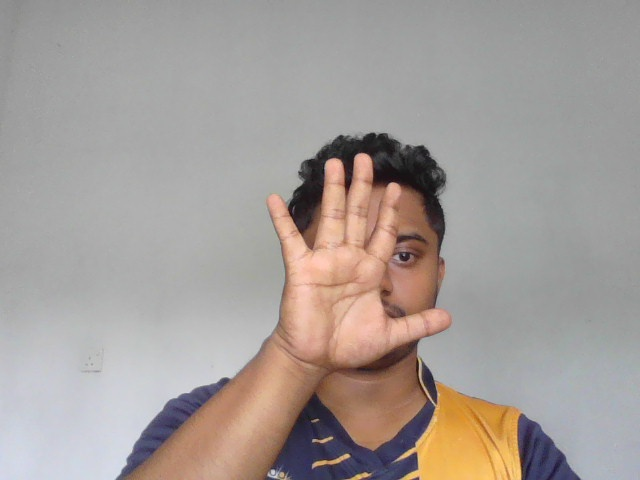Hello: (266, 150, 453, 370)
